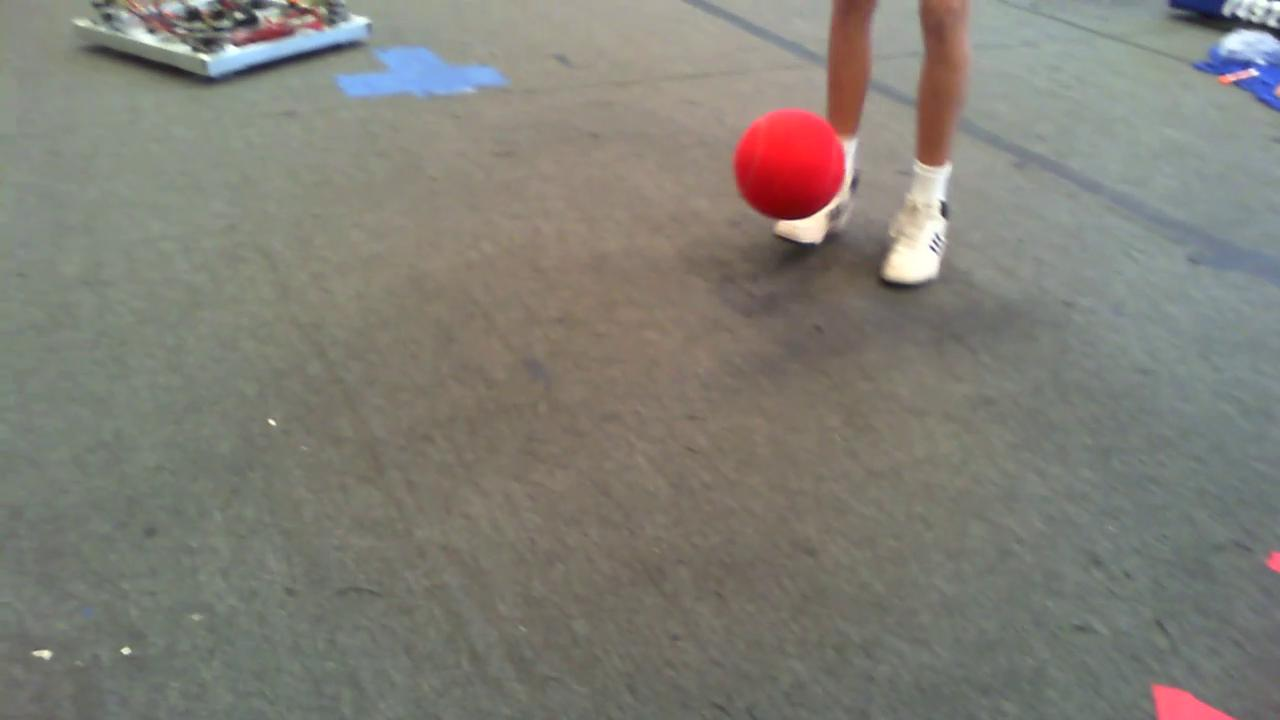Red_Ball: (728, 106, 850, 221)
